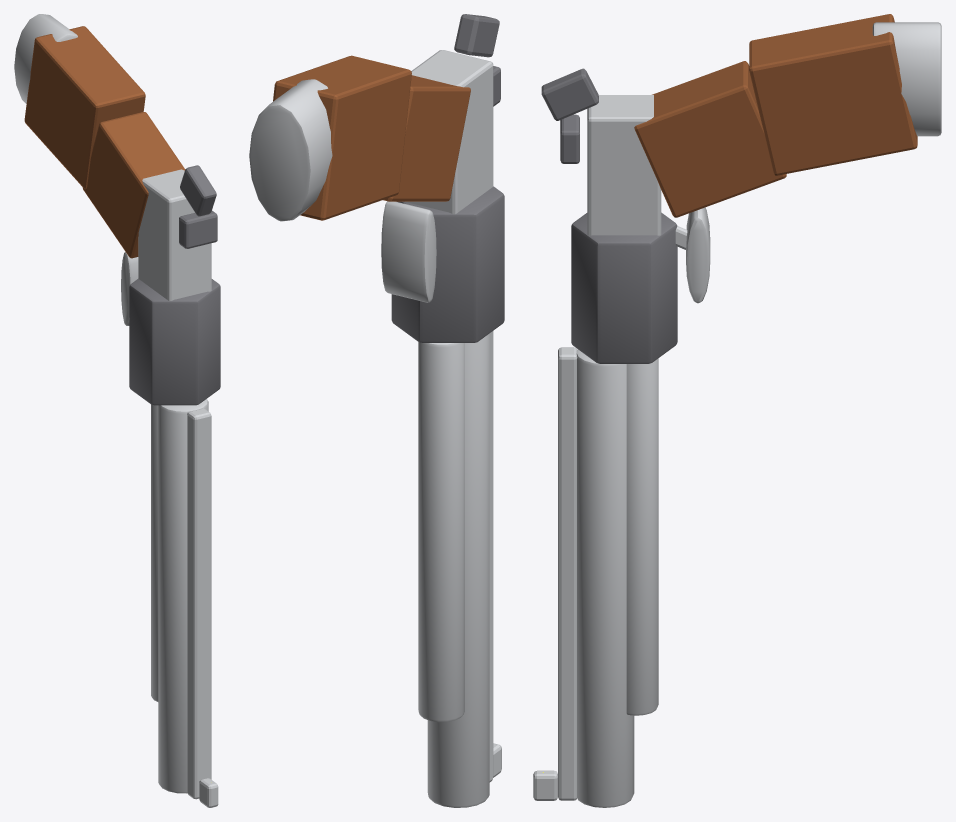
Rendered from magnum.glb.
The picture shows the model from 3 angles, left to right: view 1: azimuth 30°, elevation 25°; view 2: azimuth 150°, elevation 25°; view 3: azimuth 270°, elevation 25°; orthographic projection. The views are drawn at different scales.
Visible parts, largest first — view 1: magnum; view 2: magnum; view 3: magnum.
Boxes of the visible parts, <box> form: magnum: <box>14,14,220,807</box>; magnum: <box>249,14,504,807</box>; magnum: <box>533,14,941,807</box>.
Bounding box in the file's own units: 0.0381 × 0.3477 × 0.166.
